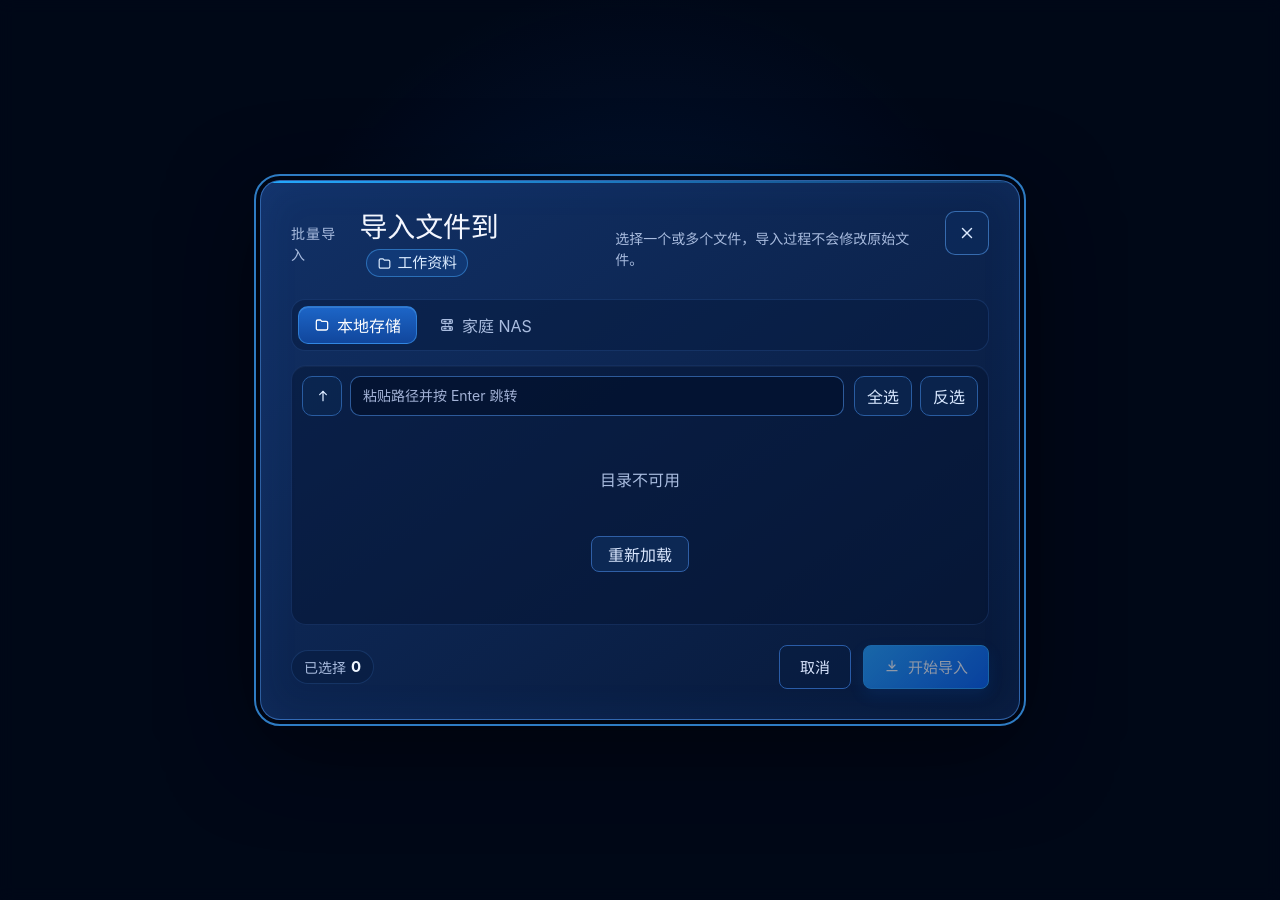
ImportFileDialog › shows empty, error, and retry states
Expected: the text "目录不可用" is shown, [600,467,680,491]
What coordinates should you click on to do the following:
click the button "重新加载"
I would click on:
 (640, 554)
Its box is [591,536,689,572].
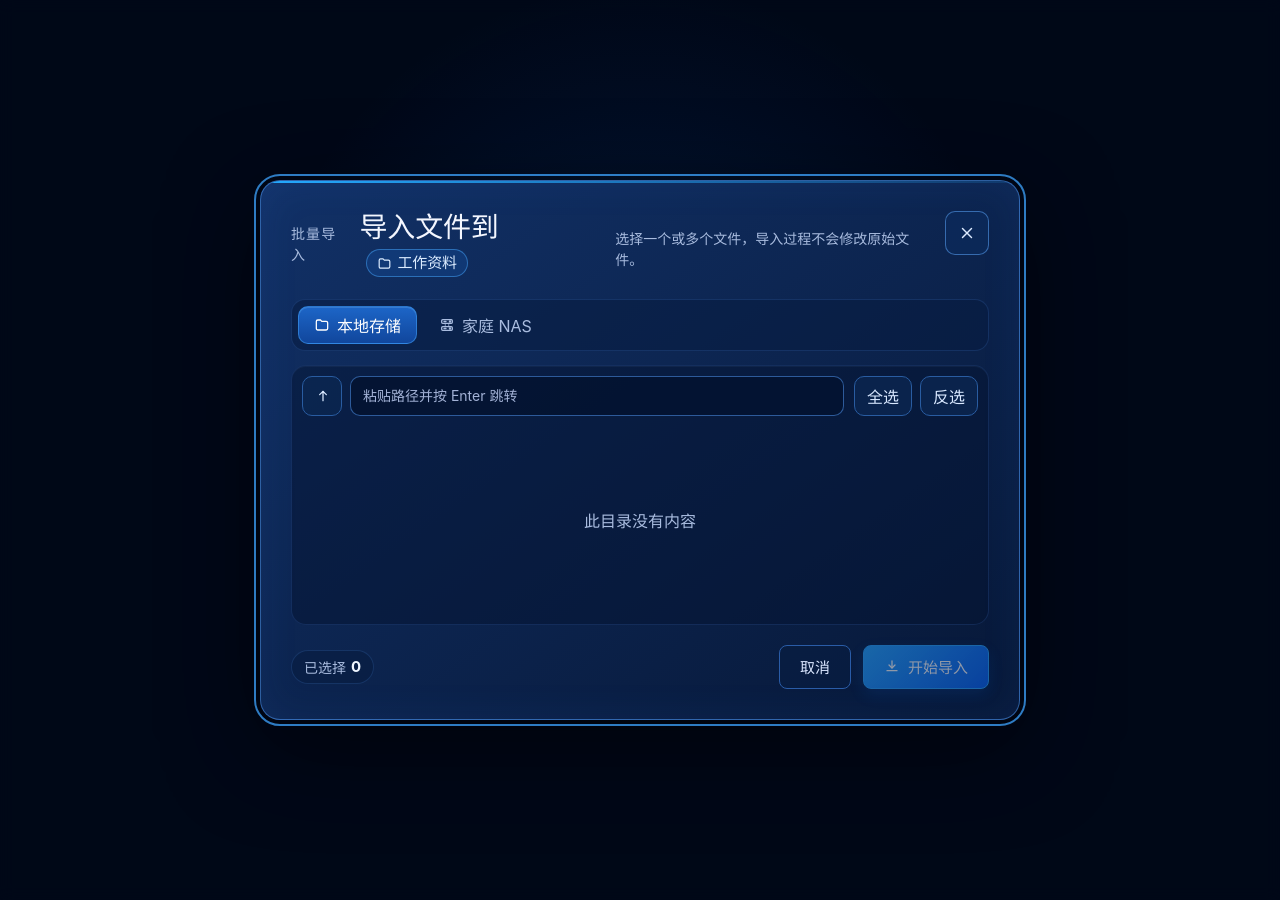
Expected: the text "此目录没有内容" is shown, [584,511,696,531]
